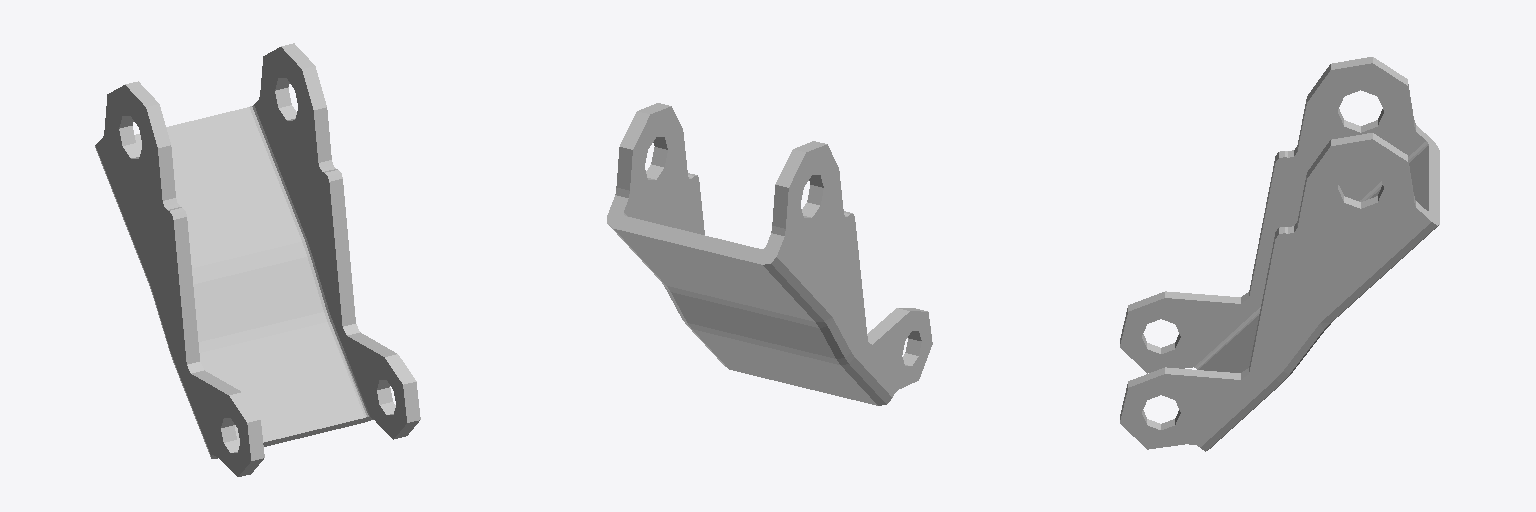
File: Hinge_2_Holes_Connector.obj
3 renders of one model, left to right at view 1: azimuth 30°, elevation 25°; view 2: azimuth 150°, elevation 25°; view 3: azimuth 270°, elevation 25°, orthographic.
Visible parts, largest first — view 1: _[number redacted]; view 2: _[number redacted]; view 3: _[number redacted].
Part boxes in pixels (left/top/right/bottom): _[number redacted]: left=95, top=43, right=420, bottom=476; _[number redacted]: left=607, top=103, right=932, bottom=405; _[number redacted]: left=1120, top=57, right=1439, bottom=451.
Size of the model in its own units: 12.5 by 22.3 by 20.47.